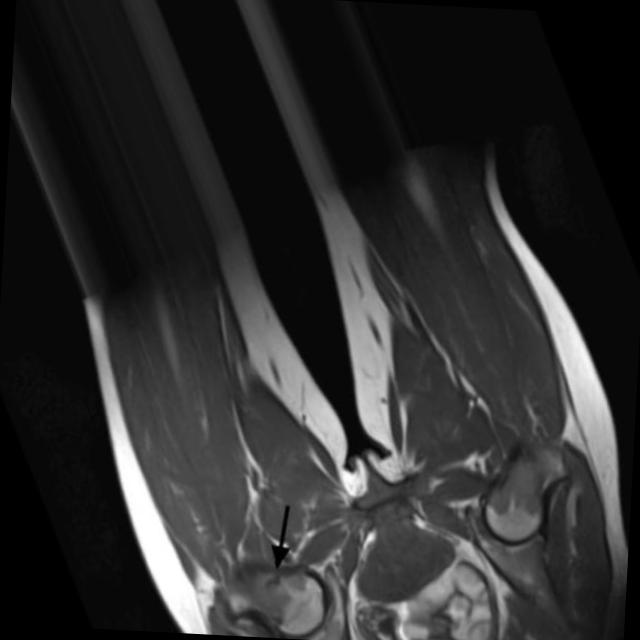Transverse Displaced: (262, 556, 306, 604)
